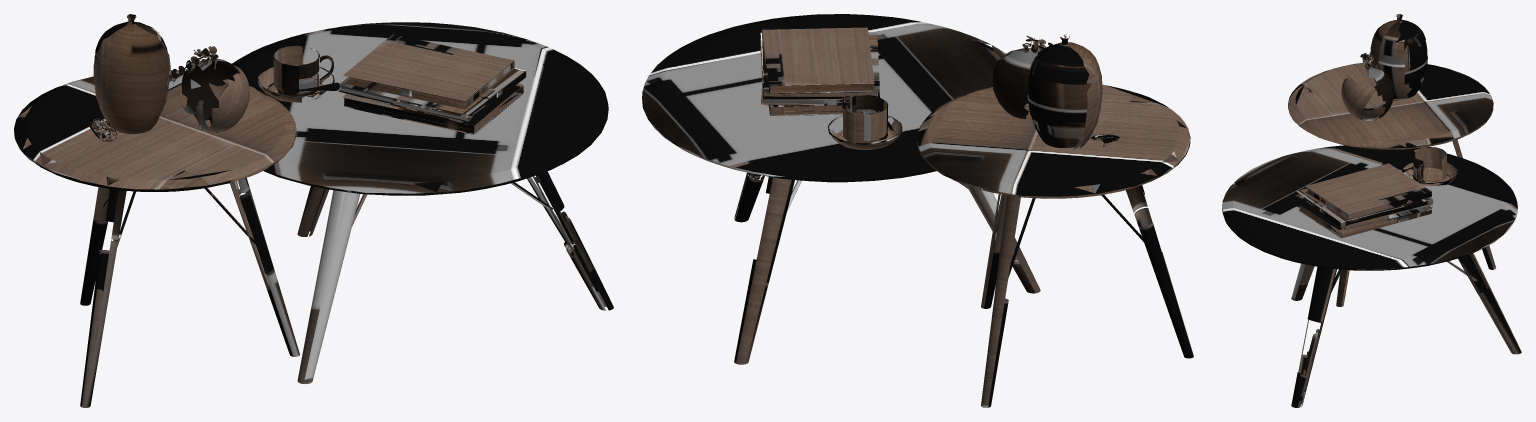
File: raw_model.obj
3 views of the same model, side by side, from view 1: azimuth 30°, elevation 25°; view 2: azimuth 150°, elevation 25°; view 3: azimuth 270°, elevation 25° (orthographic). The views are drawn at different scales.
Parts seen in each view (by area): view 1: solid_006, solid_005, solid_014, solid_010, solid_003, solid_001, solid_002, solid_008, solid_004; view 2: solid_006, solid_005, solid_014, solid_010, solid_001, solid_003, solid_002, solid_004, solid_009; view 3: solid_006, solid_014, solid_005, solid_010, solid_001, solid_002, solid_008, solid_009, solid_003.
Boxes of the visible parts, x1=… form: solid_006: x1=14, y1=22, x2=608, y2=195; solid_005: x1=80, y1=171, x2=613, y2=407; solid_014: x1=93, y1=14, x2=249, y2=134; solid_010: x1=343, y1=34, x2=514, y2=109; solid_003: x1=340, y1=63, x2=522, y2=133; solid_001: x1=257, y1=45, x2=334, y2=102; solid_002: x1=338, y1=68, x2=526, y2=121; solid_008: x1=342, y1=83, x2=523, y2=134; solid_004: x1=103, y1=182, x2=552, y2=280; solid_006: x1=642, y1=14, x2=1190, y2=198; solid_005: x1=734, y1=160, x2=1193, y2=407; solid_014: x1=992, y1=34, x2=1102, y2=150; solid_010: x1=762, y1=27, x2=874, y2=93; solid_001: x1=827, y1=95, x2=902, y2=149; solid_003: x1=763, y1=79, x2=877, y2=114; solid_002: x1=760, y1=32, x2=879, y2=99; solid_004: x1=787, y1=180, x2=1143, y2=277; solid_009: x1=761, y1=80, x2=850, y2=105; solid_006: x1=1222, y1=62, x2=1517, y2=270; solid_014: x1=1341, y1=14, x2=1427, y2=120; solid_005: x1=1291, y1=139, x2=1521, y2=407; solid_010: x1=1305, y1=163, x2=1431, y2=219; solid_001: x1=1402, y1=147, x2=1457, y2=186; solid_002: x1=1295, y1=188, x2=1433, y2=227; solid_008: x1=1298, y1=201, x2=1431, y2=238; solid_009: x1=1306, y1=198, x2=1432, y2=229; solid_003: x1=1297, y1=188, x2=1431, y2=235.
Bounding box in the file's own units: 1.15 × 0.6939 × 0.7641.
